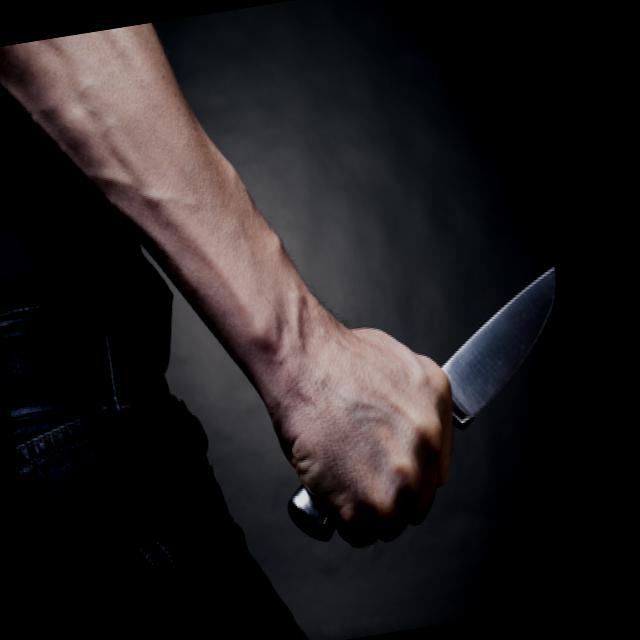knife: (350, 250, 595, 518)
